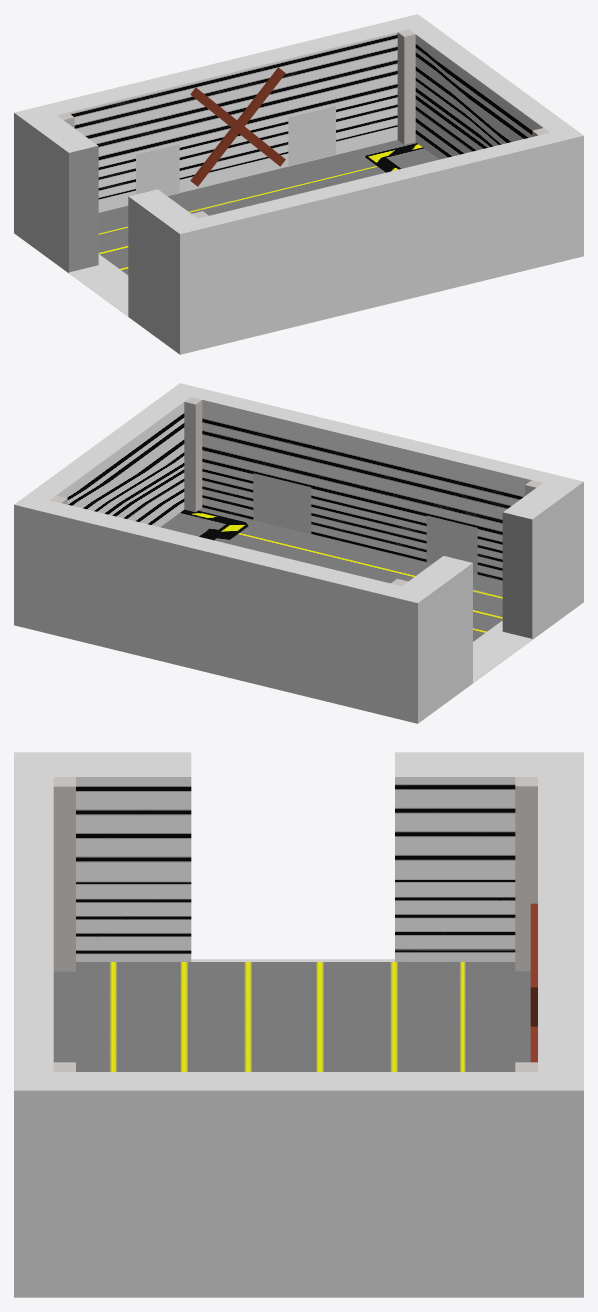
The model's file is stage0.fbx.
3 renders of one model, top to bottom at view 1: azimuth 30°, elevation 25°; view 2: azimuth 150°, elevation 25°; view 3: azimuth 270°, elevation 25°, orthographic. The views are drawn at different scales.
Visible parts, largest first — view 1: polySurface31; view 2: polySurface31; view 3: polySurface31.
Boxes of the visible parts, box(x1,y1,x2,y2) form: polySurface31: box(14, 14, 583, 354); polySurface31: box(14, 383, 583, 723); polySurface31: box(14, 752, 583, 1297).
Size of the model in its own units: 35.49 by 10.13 by 25.28.
